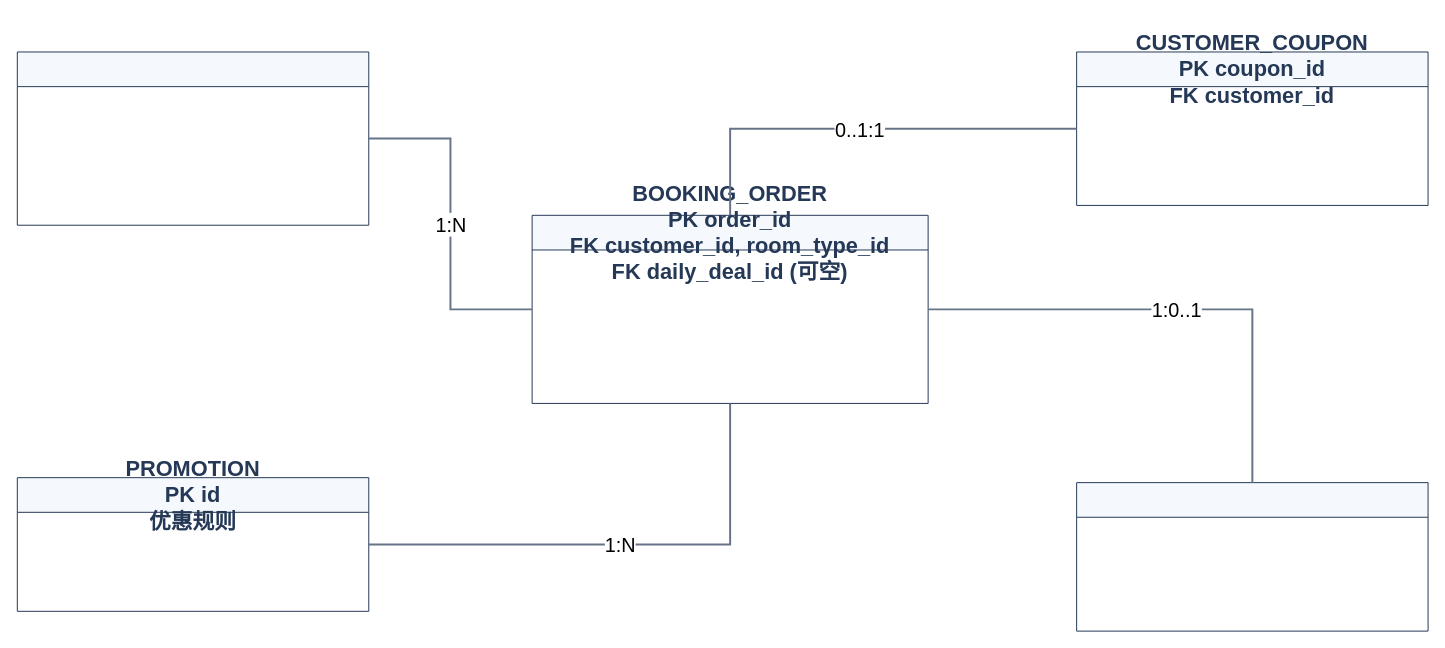
This 1445x648 diagram has some shape labels left out. The shapes that lost their labels are listed below. From the top down, each one's centre as x and y in pixels, then its label:
(192,138): DAILY_DEAL PK id FK room_type_id quota, discount_rate
(1252,556): ORDER_REVIEW PK review_id UNIQUE order_id
